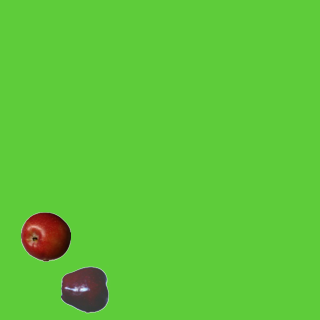Apple Braeburn: (20, 211, 70, 261)
Apple Red Delicious: (60, 264, 110, 314)
